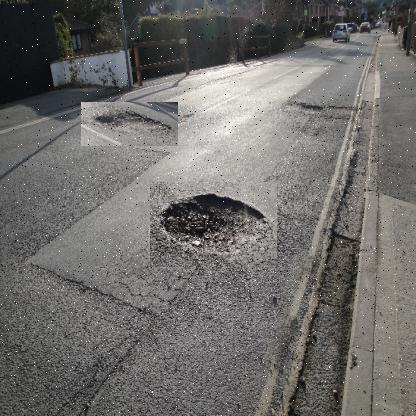pothole: (150, 182, 278, 268), (81, 102, 179, 147)
